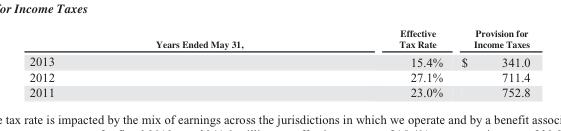table: (28, 28, 529, 99)
table column: (28, 28, 320, 99), (320, 28, 451, 99), (451, 28, 529, 99)
table column header: (28, 28, 529, 51)
table row: (28, 28, 529, 51), (28, 51, 529, 69), (28, 69, 529, 84), (28, 84, 529, 99)
